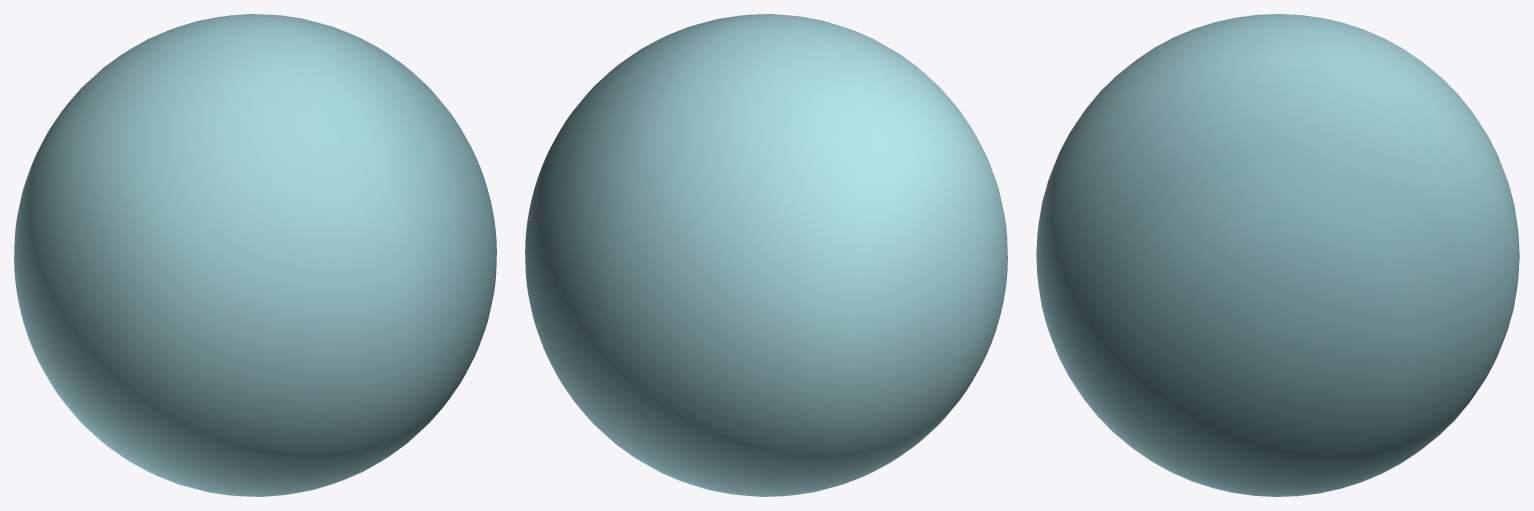
File: uranus.gltf
3 renders of one model, left to right at view 1: azimuth 30°, elevation 25°; view 2: azimuth 150°, elevation 25°; view 3: azimuth 270°, elevation 25°, orthographic.
Parts seen in each view (by area): view 1: uranus_22; view 2: uranus_22; view 3: uranus_22.
Part boxes in pixels (x1,y1,x2,y2): uranus_22: [14, 14, 496, 496]; uranus_22: [525, 14, 1007, 496]; uranus_22: [1036, 14, 1519, 496].
Size of the model in its own units: 1.75 by 1.75 by 1.75.
Materials: 1 (1 with a texture image).
